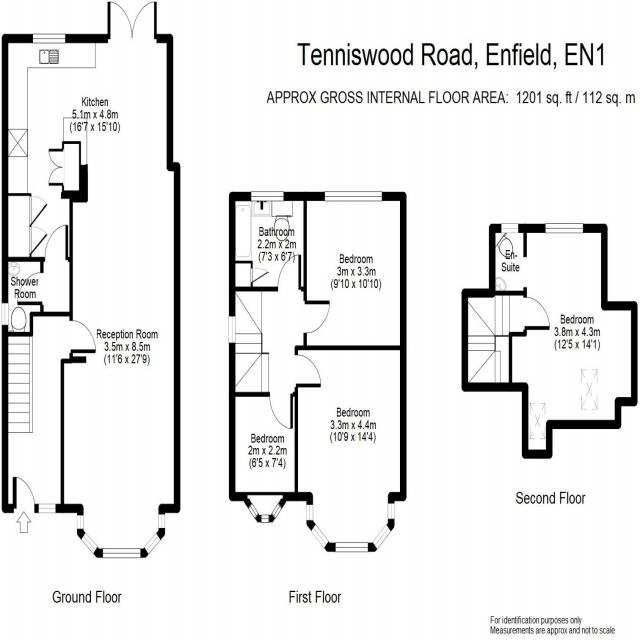DOOR: (69, 318, 97, 354), (43, 224, 69, 262), (523, 296, 551, 331), (269, 391, 294, 430), (277, 253, 302, 291), (11, 475, 36, 513), (17, 271, 44, 306), (295, 354, 322, 388), (303, 300, 330, 334)
DOUBLE DOOR: (106, 0, 158, 45)
ROOM: (1, 0, 182, 562), (509, 223, 638, 459), (294, 345, 407, 553), (303, 191, 407, 351), (229, 392, 299, 523)
WINDOW: (324, 191, 383, 202), (372, 523, 392, 550), (311, 523, 329, 549), (143, 532, 161, 556), (102, 548, 141, 559), (80, 532, 98, 555), (545, 223, 584, 233), (335, 542, 369, 553), (32, 33, 66, 44), (251, 191, 284, 202), (228, 315, 236, 344), (271, 502, 283, 520), (1, 302, 9, 327), (248, 502, 259, 520), (38, 503, 56, 514), (501, 223, 519, 233), (387, 502, 395, 520), (306, 504, 313, 521), (77, 514, 84, 530), (158, 514, 165, 529), (260, 514, 270, 523)
